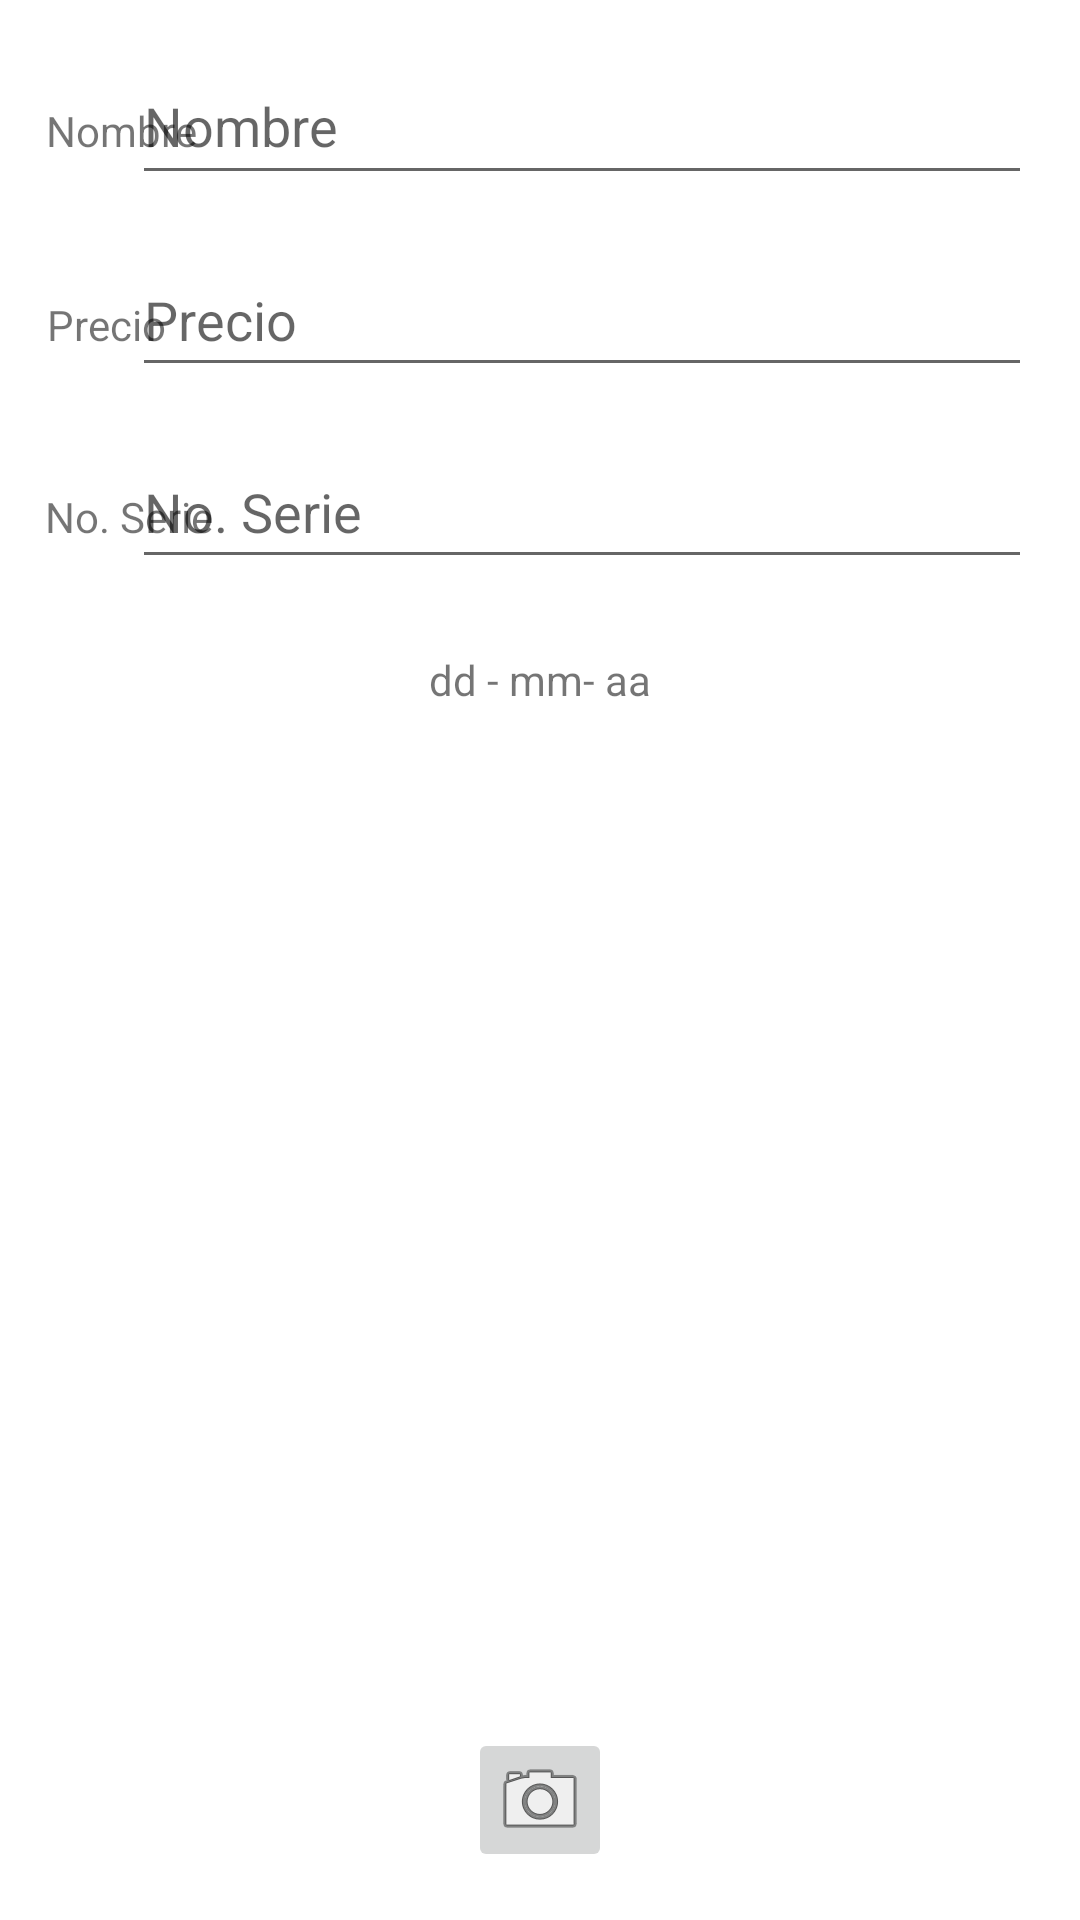

Where icons sit on this 1080*1920 app screen, as box=[x1, y1, x2, y2]:
camera: box=[480, 1746, 600, 1854]
